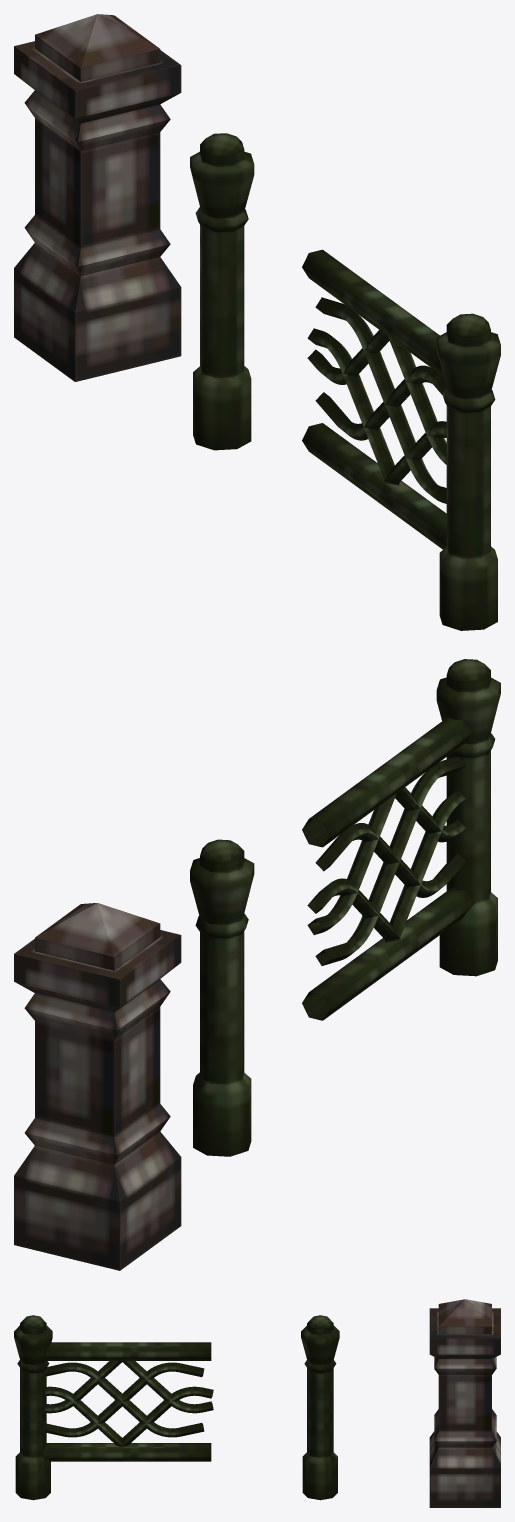
File: EnvMdrMD_Sea_A_Fence_A_Loop_A.FBX
3 renders of one model, top to bottom at view 1: azimuth 30°, elevation 25°; view 2: azimuth 150°, elevation 25°; view 3: azimuth 270°, elevation 25°, orthographic. The views are drawn at different scales.
Visible parts, largest first — view 1: EnvMdrMD_Sea_A_FencePillar_A, EnvMdrMD_Sea_A_Fence_A_Post_A, EnvMdrMD_Sea_A_Fence_A_Loop_A; view 2: EnvMdrMD_Sea_A_FencePillar_A, EnvMdrMD_Sea_A_Fence_A_Post_A, EnvMdrMD_Sea_A_Fence_A_Loop_A; view 3: EnvMdrMD_Sea_A_Fence_A_Post_A, EnvMdrMD_Sea_A_FencePillar_A, EnvMdrMD_Sea_A_Fence_A_Loop_A.
Boxes of the visible parts, <box> form: EnvMdrMD_Sea_A_FencePillar_A: <box>14,14,181,381</box>; EnvMdrMD_Sea_A_Fence_A_Post_A: <box>302,249,500,630</box>; EnvMdrMD_Sea_A_Fence_A_Loop_A: <box>190,133,254,450</box>; EnvMdrMD_Sea_A_FencePillar_A: <box>14,903,181,1270</box>; EnvMdrMD_Sea_A_Fence_A_Post_A: <box>302,659,500,1020</box>; EnvMdrMD_Sea_A_Fence_A_Loop_A: <box>190,839,254,1156</box>; EnvMdrMD_Sea_A_Fence_A_Post_A: <box>14,1315,213,1500</box>; EnvMdrMD_Sea_A_FencePillar_A: <box>429,1299,500,1507</box>; EnvMdrMD_Sea_A_Fence_A_Loop_A: <box>301,1315,339,1500</box>.
Size of the model in its own units: 40 by 120 by 274.
